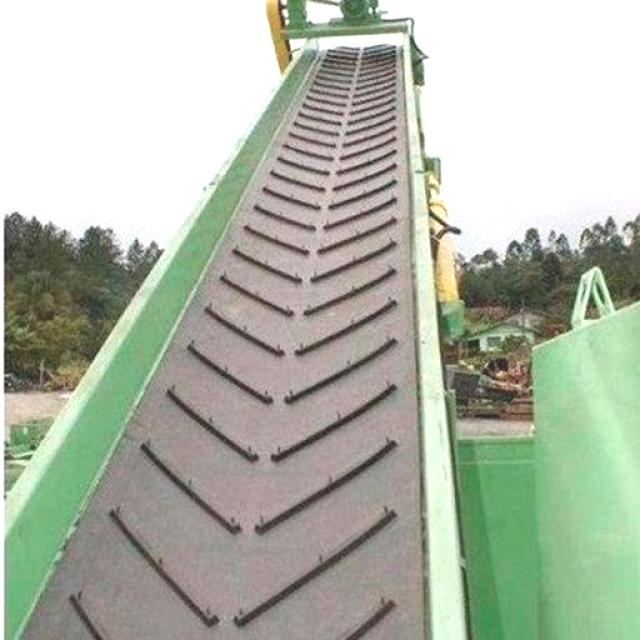conveyor: (12, 43, 429, 640)
